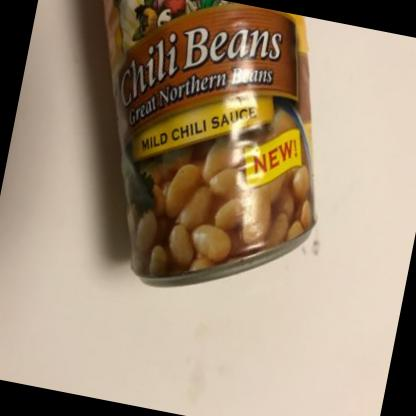Metal: (101, 0, 314, 286)
